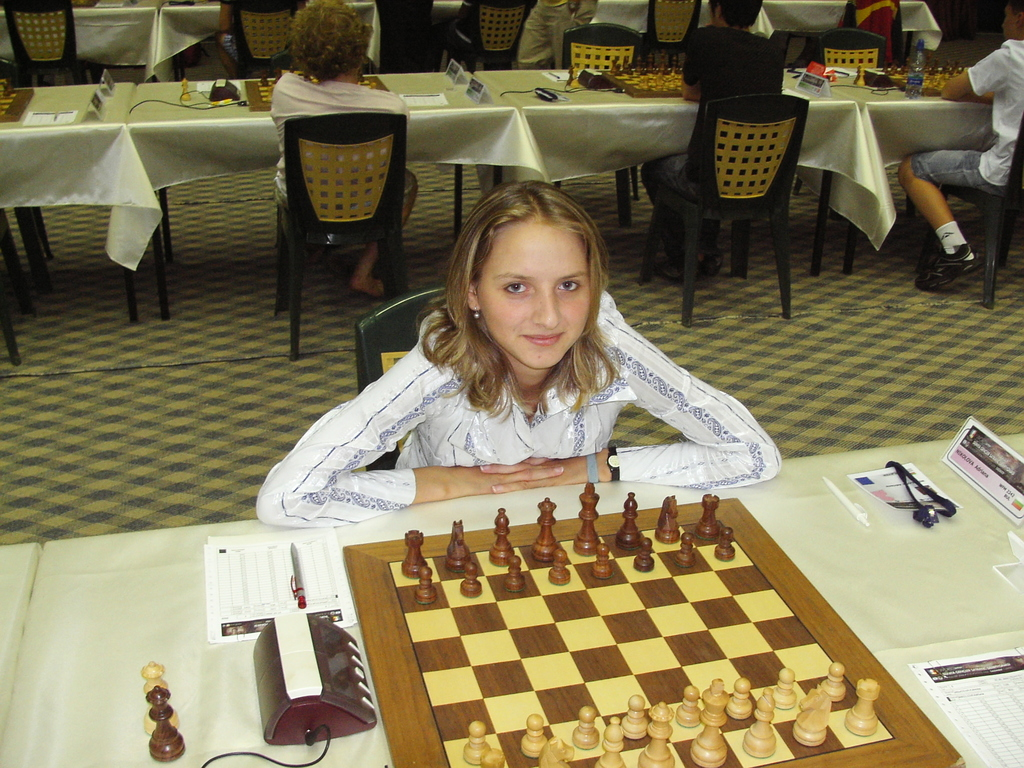Chair: (273, 111, 408, 358), (680, 84, 817, 298), (913, 114, 1023, 309), (355, 285, 452, 468), (797, 26, 884, 221), (559, 22, 641, 227), (5, 0, 99, 87), (447, 0, 532, 73), (223, 0, 303, 77), (636, 0, 698, 65)
